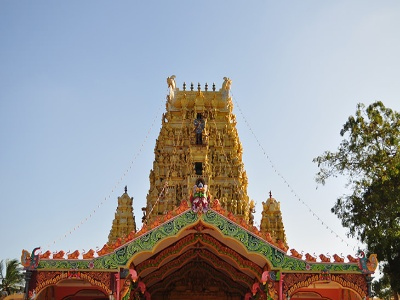gopura: (123, 77, 275, 234)
